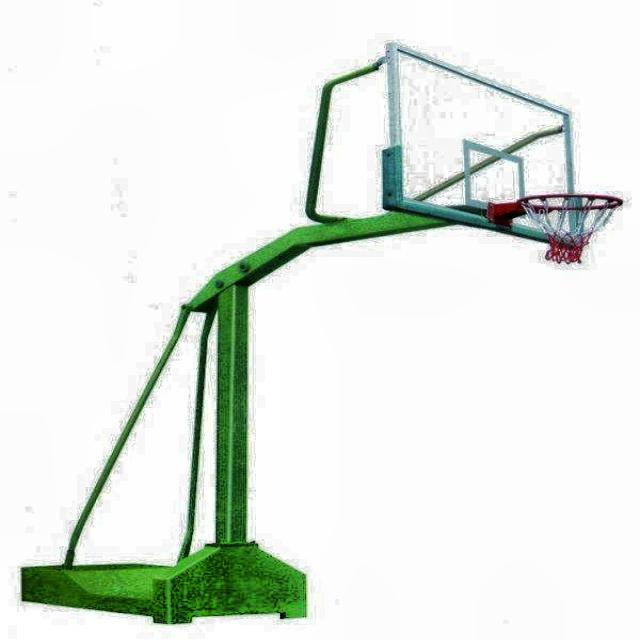rim: (518, 193, 624, 263)
